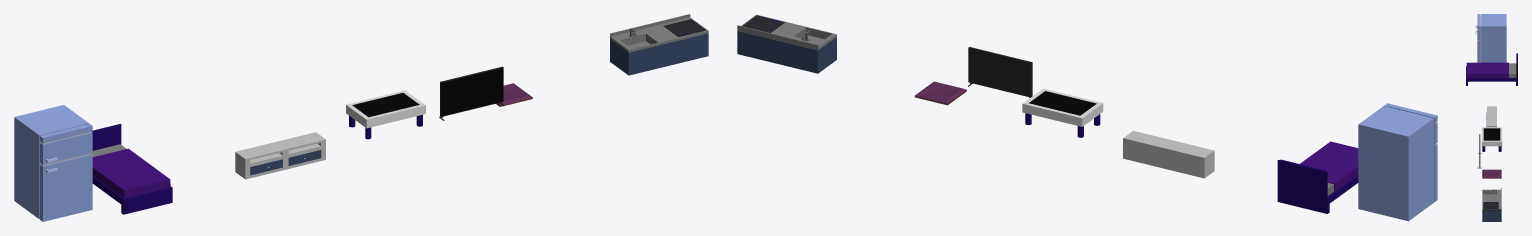
The model's file is Props_House.fbx.
3 renders of one model, left to right at view 1: azimuth 30°, elevation 25°; view 2: azimuth 150°, elevation 25°; view 3: azimuth 270°, elevation 25°, orthographic. The views are drawn at different scales.
Parts seen in each view (by area): view 1: Cube, Bed, Kitchen, Furniture, TV, Table, Poof; view 2: Cube, Bed, Kitchen, Furniture, TV, Table, Poof; view 3: Cube, Bed, Kitchen, Table, Furniture, Poof, TV.
Part boxes in pixels (bbox=[...]): Cube: bbox=[14, 105, 92, 221]; Bed: bbox=[91, 124, 172, 214]; Kitchen: bbox=[610, 14, 708, 75]; Furniture: bbox=[235, 132, 325, 179]; TV: bbox=[439, 66, 504, 120]; Table: bbox=[346, 90, 425, 139]; Poof: bbox=[496, 83, 532, 106]; Cube: bbox=[1358, 103, 1437, 221]; Bed: bbox=[1277, 141, 1358, 213]; Kitchen: bbox=[737, 14, 836, 73]; Furniture: bbox=[1123, 131, 1214, 178]; TV: bbox=[968, 47, 1032, 97]; Table: bbox=[1022, 88, 1103, 137]; Poof: bbox=[914, 81, 966, 105]; Cube: bbox=[1475, 14, 1506, 62]; Bed: bbox=[1466, 53, 1517, 85]; Kitchen: bbox=[1482, 188, 1501, 221]; Table: bbox=[1481, 127, 1502, 151]; Furniture: bbox=[1486, 106, 1496, 127]; Poof: bbox=[1482, 169, 1501, 178]; TV: bbox=[1478, 134, 1481, 168].
Bounding box in the file's own units: 15.95 × 2.28 × 2.12.
